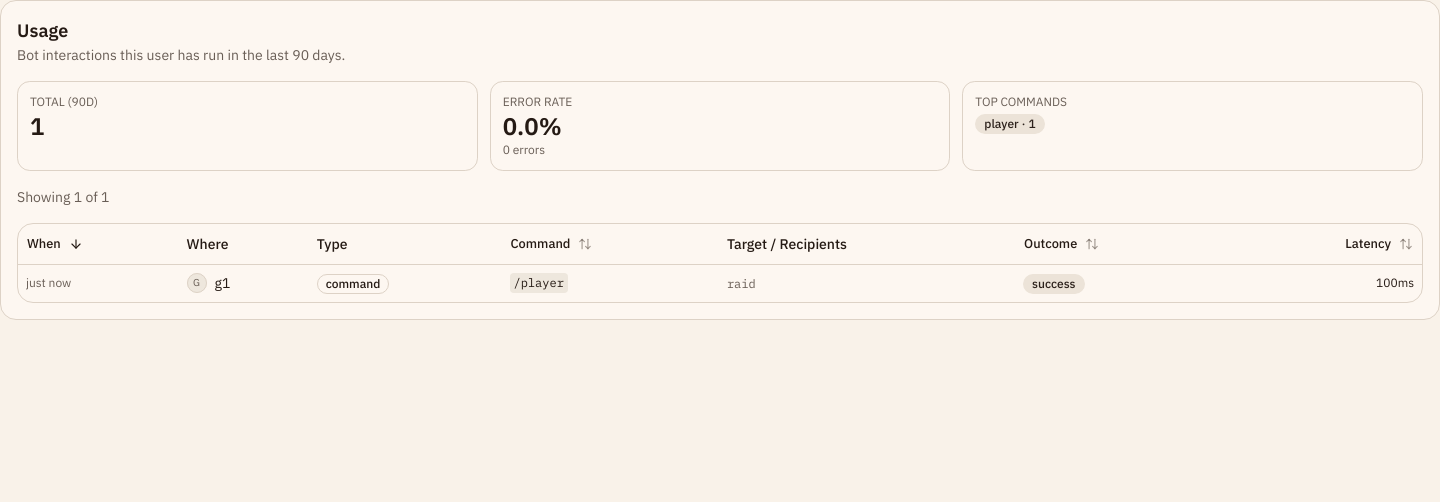
Test: UsageSection › row click expands raw options JSON
The image size is (1440, 502).
Note: New layout: row is a TableRow (no button role), find the command code cell and click the row
Click the text "/player" at (49, 282), box [18,264,1422,302]
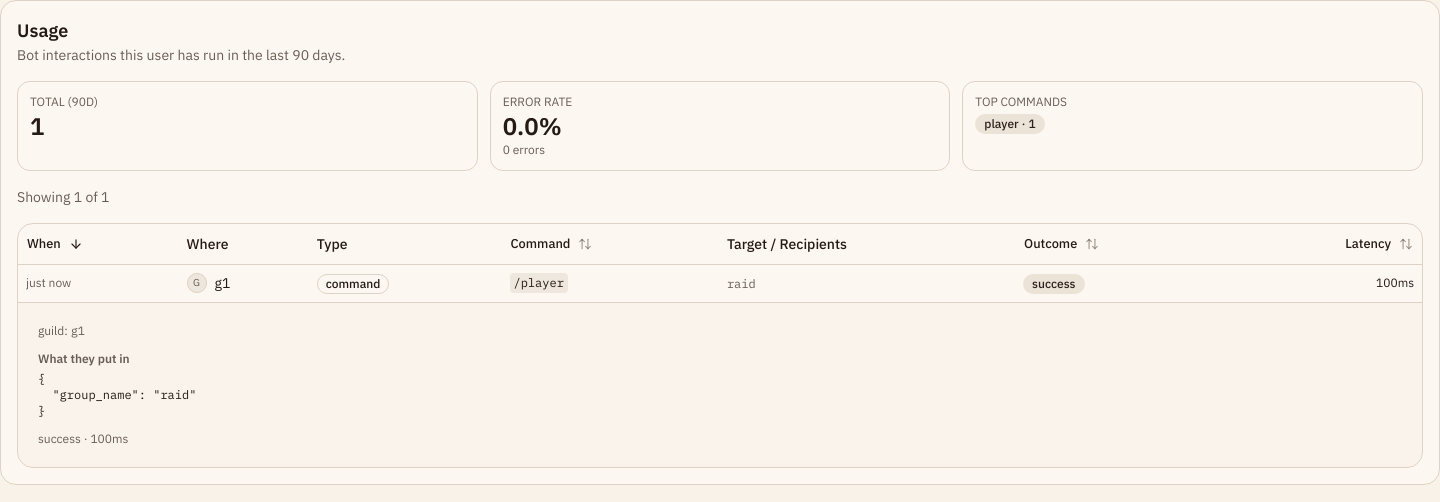
Expected: the text "{ \"group_name\": \"raid\" }" is shown, [38,370,196,418]
